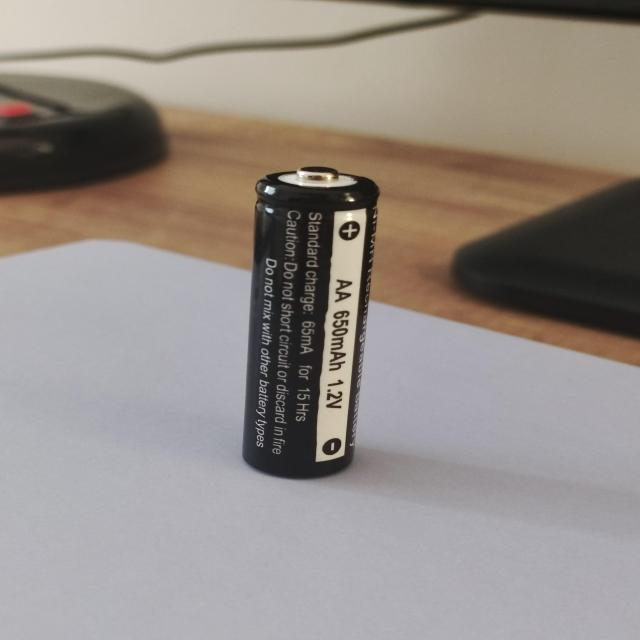AA: (241, 165, 380, 479)
